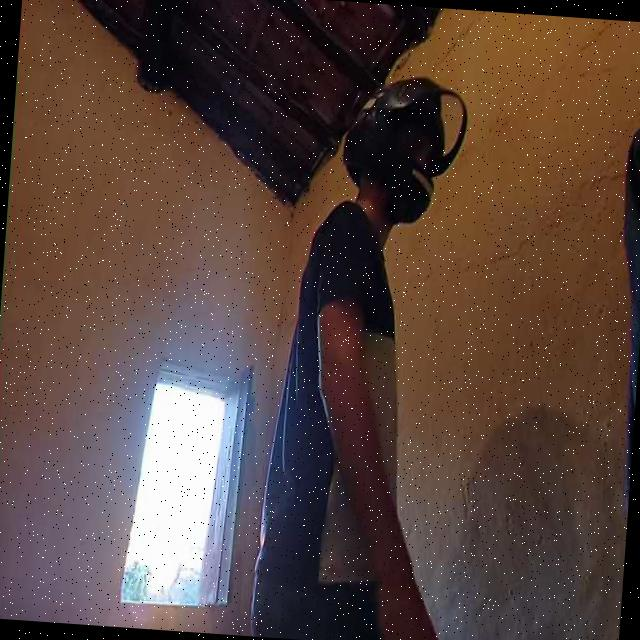capacete: (342, 72, 472, 206)
pessoa: (247, 107, 464, 640)
